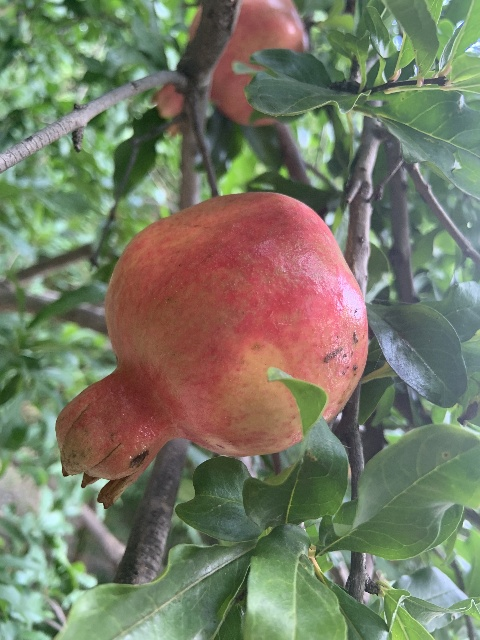ripe: (54, 191, 367, 508), (147, 0, 307, 138)
